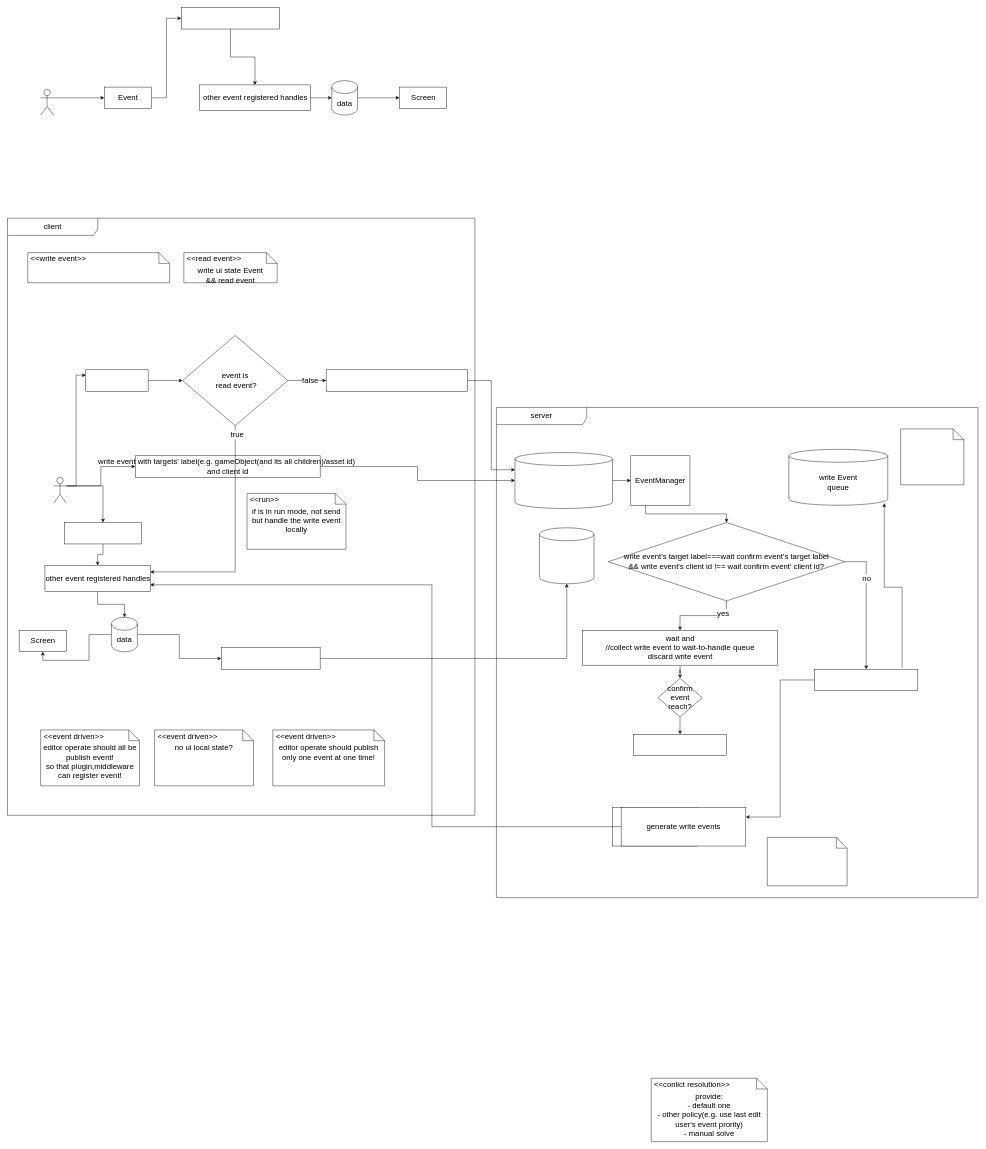
Image size: 986x1149. Some labels were removed from this diagram. The shapes that lost their labels are listed below. From the top down, each one's box as (x1, y1, x2, y2) in pixels, then its label:
(181, 7, 280, 29): multi-edit middleware event registed handles
(27, 252, 170, 283): write editor, engine Event
(85, 369, 148, 391): undo/redo event
(326, 369, 468, 391): undo/redo write Event
(900, 428, 964, 485): specify which event is for which client id for redo/undo
(514, 452, 613, 508): new write Event queue
(64, 522, 142, 544): read event
(539, 527, 594, 584): confirm event queue
(221, 647, 320, 669): ok event for write event
(814, 669, 918, 691): add write event to queue
(633, 734, 727, 756): reset wait confirm event
(767, 837, 847, 886): be subset of new write Event queue?
